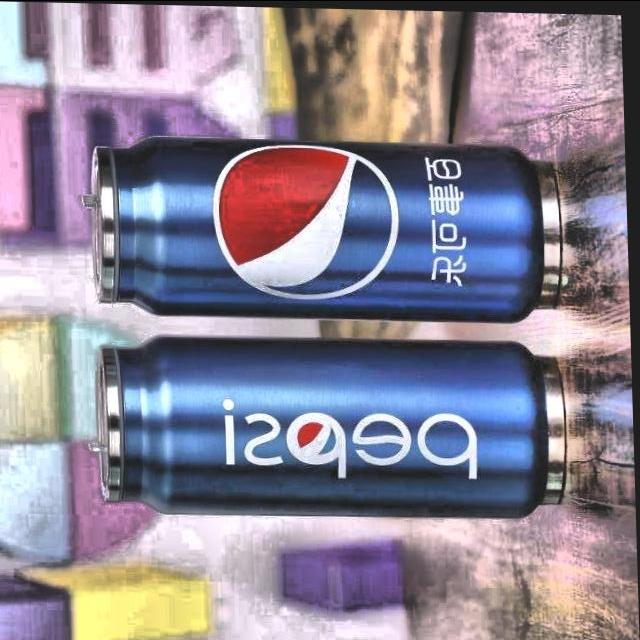litter: (86, 127, 572, 326), (90, 328, 577, 522)
